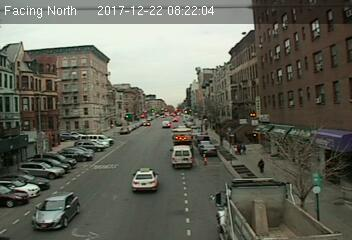car: (31, 189, 79, 230), (130, 167, 158, 191), (200, 144, 218, 156)
truck: (169, 144, 192, 169)
